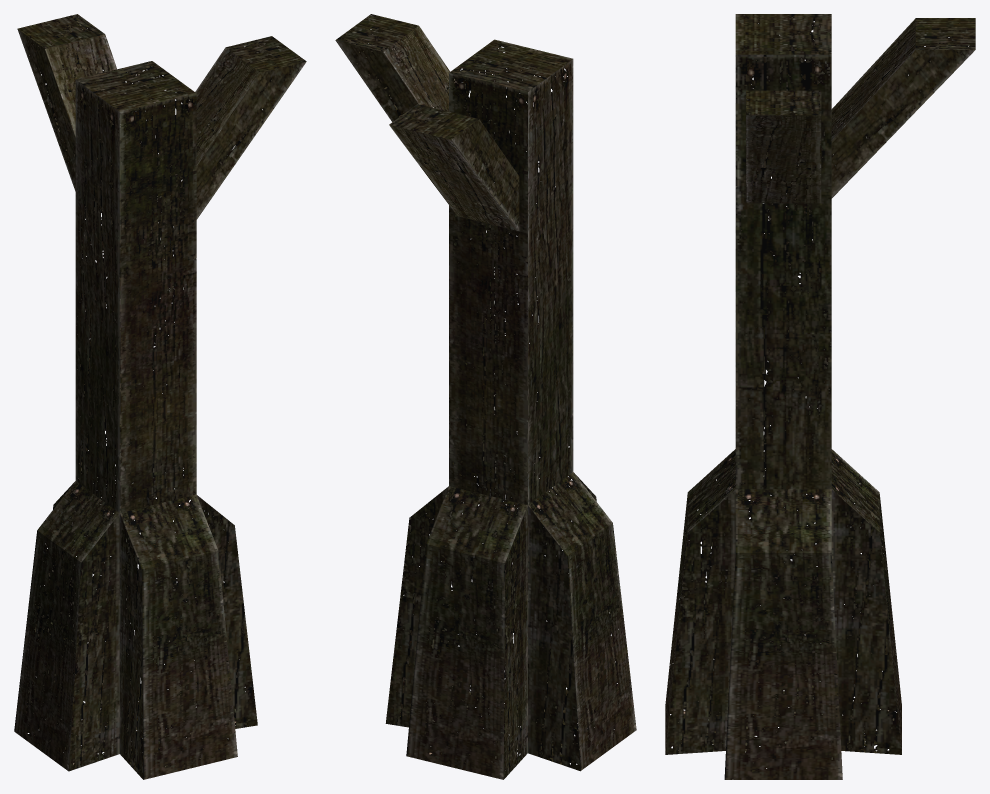
The model's file is wood_short_corner.DAE.
The picture shows the model from 3 angles, left to right: view 1: azimuth 30°, elevation 25°; view 2: azimuth 150°, elevation 25°; view 3: azimuth 270°, elevation 25°; orthographic projection. The views are drawn at different scales.
Visible parts, largest first — view 1: pCube009; view 2: pCube009; view 3: pCube009.
Boxes of the visible parts, <box> form: pCube009: <box>14,14,306,779</box>; pCube009: <box>335,14,636,779</box>; pCube009: <box>665,14,975,779</box>.
Size of the model in its own units: 1.62 by 4 by 1.62.
